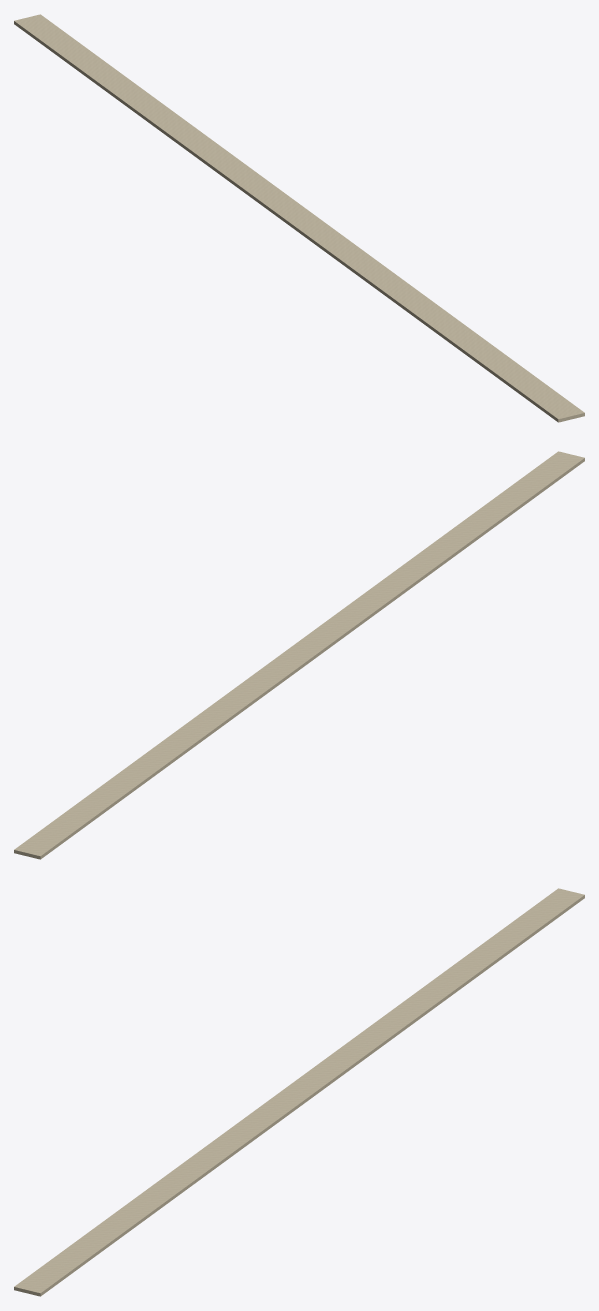
The model's file is SERVICE_D09_PA_outer_03__floor.glb.
3 renders of one model, top to bottom at view 1: azimuth 30°, elevation 25°; view 2: azimuth 150°, elevation 25°; view 3: azimuth 330°, elevation 25°, orthographic.
Visible parts, largest first — view 1: SERVICE_D09_PA_outer_03__floor__warm_stone; view 2: SERVICE_D09_PA_outer_03__floor__warm_stone; view 3: SERVICE_D09_PA_outer_03__floor__warm_stone.
Part boxes in pixels (left/top/right/bottom): SERVICE_D09_PA_outer_03__floor__warm_stone: left=14, top=14, right=584, bottom=422; SERVICE_D09_PA_outer_03__floor__warm_stone: left=14, top=451, right=584, bottom=859; SERVICE_D09_PA_outer_03__floor__warm_stone: left=14, top=888, right=584, bottom=1296.
Size of the model in its own units: 2 by 0.24 by 71.
1 material, 1 textured.
